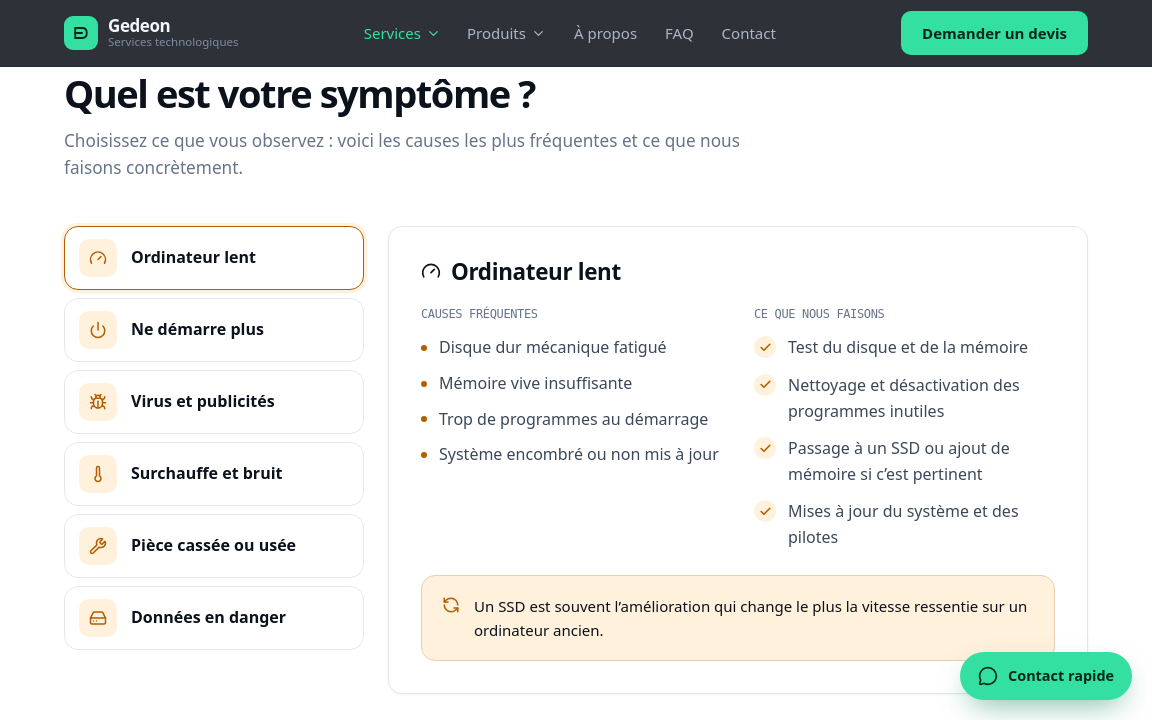
dedicated service pages › maintenance: choosing a symptom changes the advice
(page scrolled)
Step 1. Click the tab "Virus et publicités" → (214, 402), box [64, 370, 364, 434]
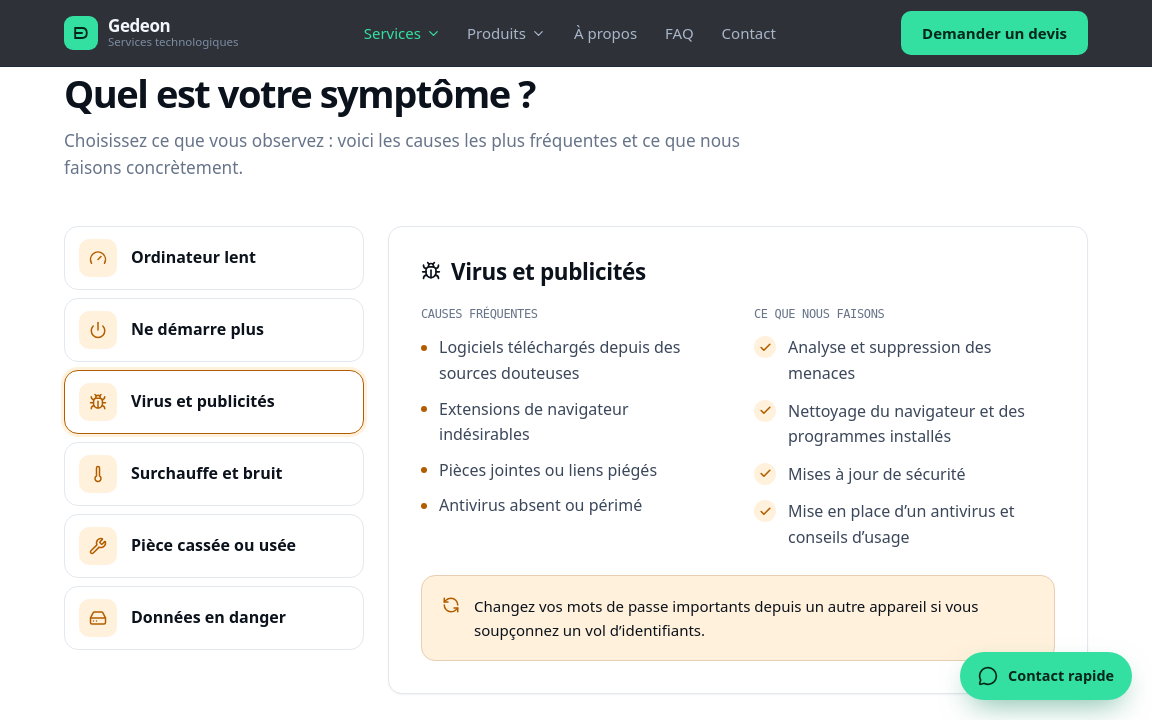
Result: the panel shows "antivirus" at [439, 494, 642, 516]
